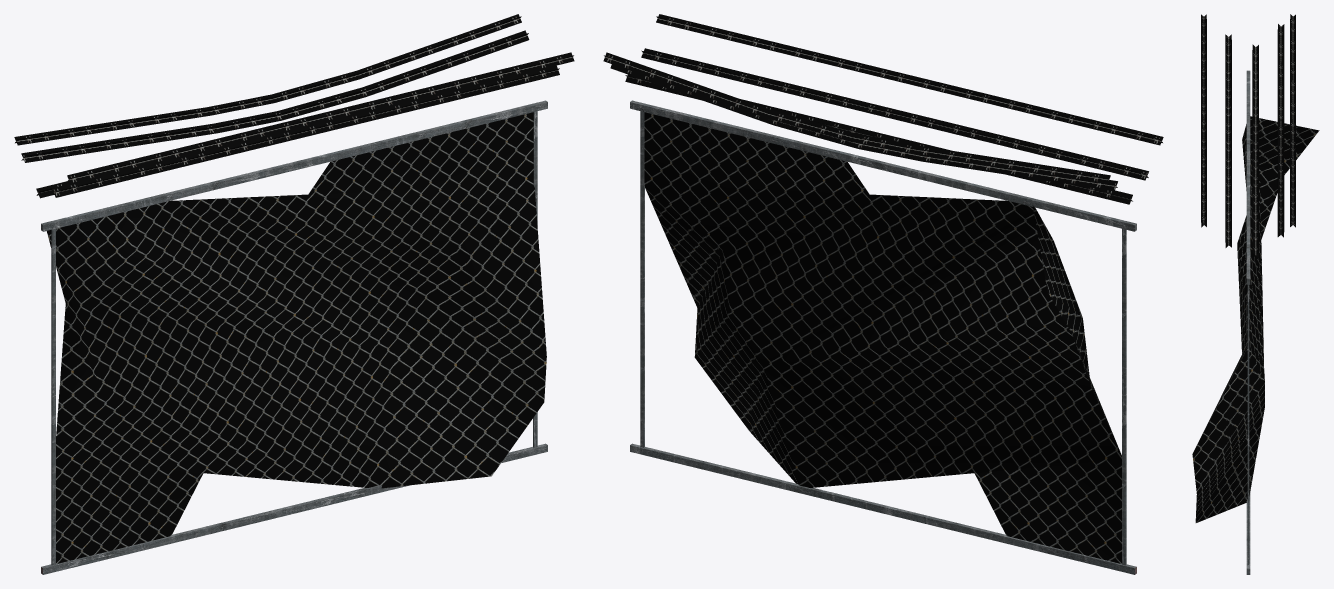
Rendered from Wire2.fbx.
3 renders of one model, left to right at view 1: azimuth 30°, elevation 25°; view 2: azimuth 150°, elevation 25°; view 3: azimuth 270°, elevation 25°, orthographic. The views are drawn at different scales.
Parts seen in each view (by area): view 1: polySurface158; view 2: polySurface158; view 3: polySurface158.
Part boxes in pixels (x1=…): polySurface158: x1=14, y1=14, x2=574, y2=574; polySurface158: x1=603, y1=14, x2=1163, y2=574; polySurface158: x1=1192, y1=14, x2=1319, y2=574.
Bounding box in the file's own units: 4 × 3.16 × 1.03.
3 materials, 3 textured.
